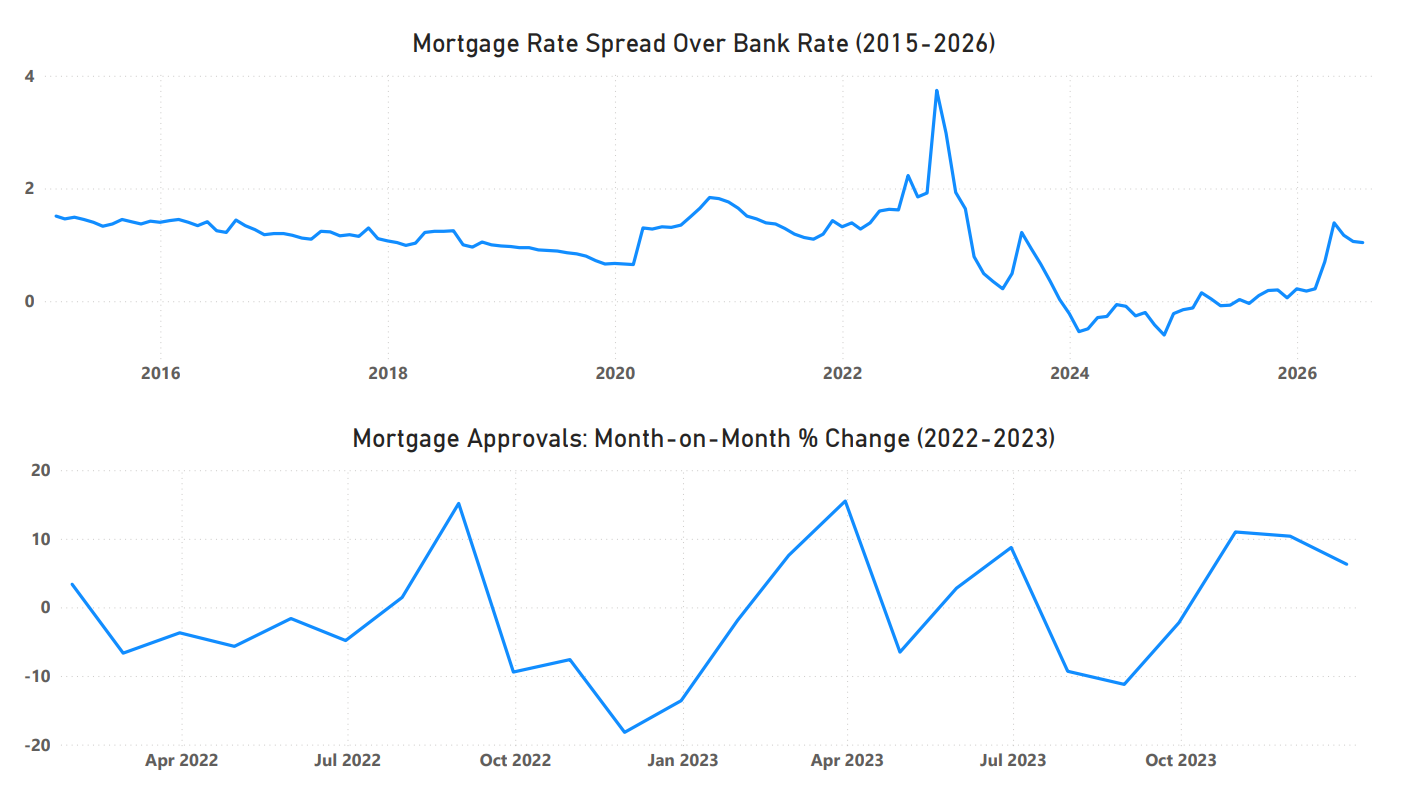

The page's visual inventory and layout, read from the dashboard file:
{"tool":"powerbi","page":{"name":"The 2022 Shock","canvas":[1280,720],"ordinal":1},"visuals":[{"type":"lineChart","title":"Mortgage Rate Spread Over Bank Rate (2015-2026)","fields":{"Category":["public monthly_combined.date"],"Y":["Avg(public monthly_combined.Spread)"]},"box":[0,0,1280.8,359.5],"z":0},{"type":"lineChart","title":"Mortgage Approvals: Month-on-Month % Change (2022-2023)","fields":{"Category":["public monthly_combined.date"],"Y":["Avg(public monthly_combined.Approvals_Pct_Change)"]},"box":[0,369.2,1280.8,351.4],"z":1000}]}

Visuals, with their boxes in screenshot pixels (x1, y1, x2, y2), scaled from the page's 1280x720 canvas onto the 1411x787 screenshot:
"Mortgage Rate Spread Over Bank Rate (2015-2026)" lineChart: {"left": 0, "top": 0, "right": 1410, "bottom": 393}
"Mortgage Approvals: Month-on-Month % Change (2022-2023)" lineChart: {"left": 0, "top": 404, "right": 1410, "bottom": 786}
